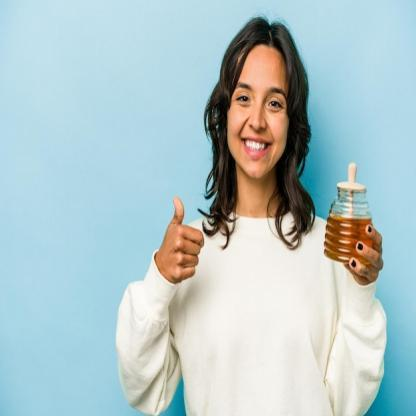thumb_up: (158, 190, 205, 286)
